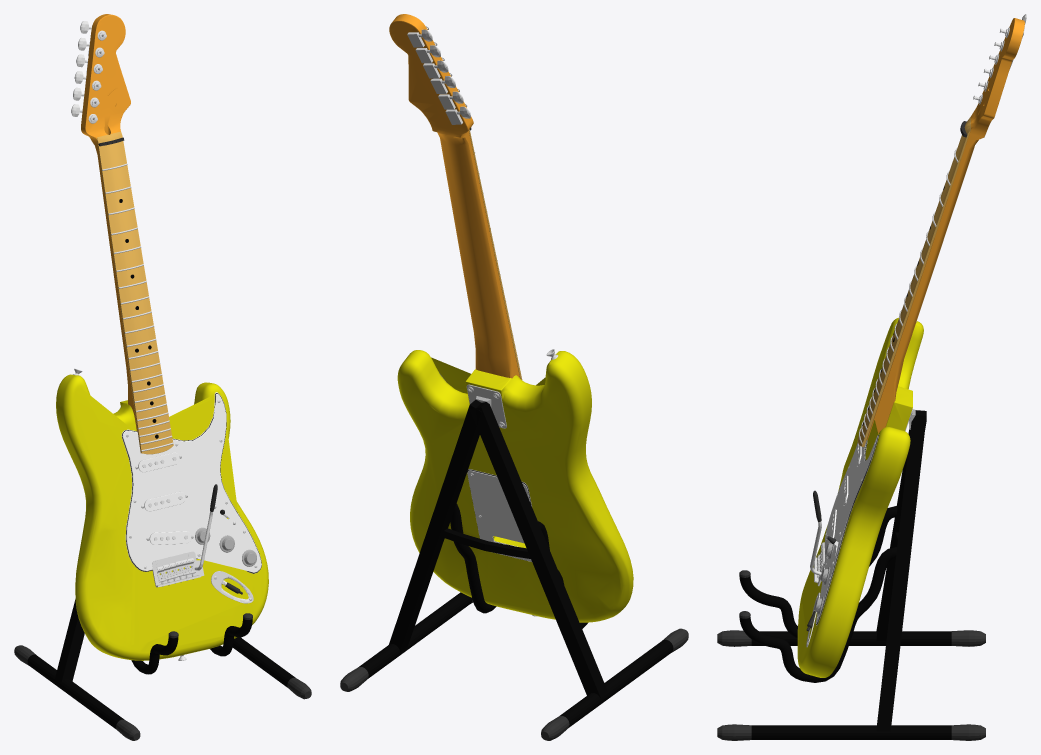
Rendered from electro.fbx.
3 views of the same model, side by side, from view 1: azimuth 30°, elevation 25°; view 2: azimuth 150°, elevation 25°; view 3: azimuth 270°, elevation 25° (orthographic). The views are drawn at different scales.
Parts seen in each view (by area): view 1: корпус, передняя_крыжка, накладка грифа, гриф, стойка, лады, мост, гнездо; view 2: корпус, стойка, гриф, задняя_крыжка, задняя_накладка; view 3: стойка, корпус, гриф, накладка грифа, передняя_крыжка, лады, gryp.3, gryp.1, gryp.4.
Boxes of the visible parts, x1,y1,x2,y2 form: корпус: (56,374,268,660); передняя_крыжка: (121,392,261,573); накладка грифа: (97,131,173,454); гриф: (81,14,137,431); стойка: (27,599,295,729); лады: (102,163,173,451); мост: (152,551,204,587); гнездо: (211,571,253,603); корпус: (397,350,633,622); стойка: (358,399,673,727); гриф: (389,14,519,378); задняя_крыжка: (467,469,531,561); задняя_накладка: (466,384,506,428); стойка: (739,410,951,739); корпус: (797,317,923,677); гриф: (866,18,1024,439); накладка грифа: (857,116,970,446); передняя_крыжка: (815,434,879,625); лады: (859,148,958,444); gryp.3: (951,724,985,740); gryp.1: (951,630,985,646); gryp.4: (717,724,751,740).
Bounding box in the file's own units: 162 × 507 × 208.
